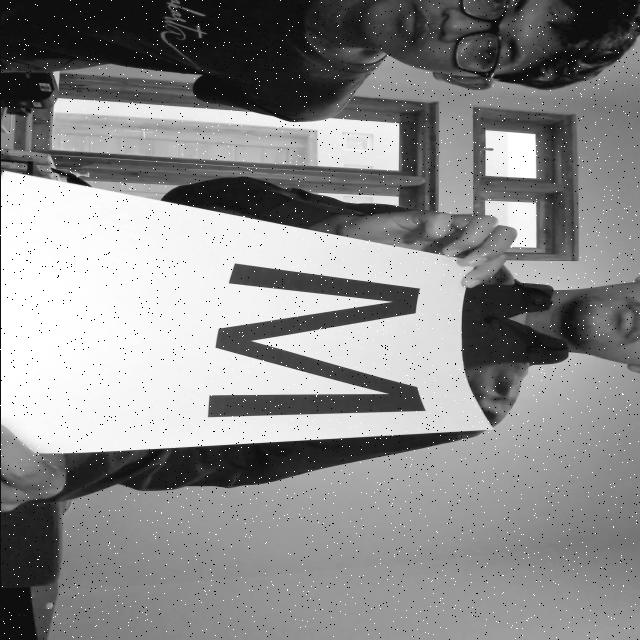m: (137, 248, 450, 452)
